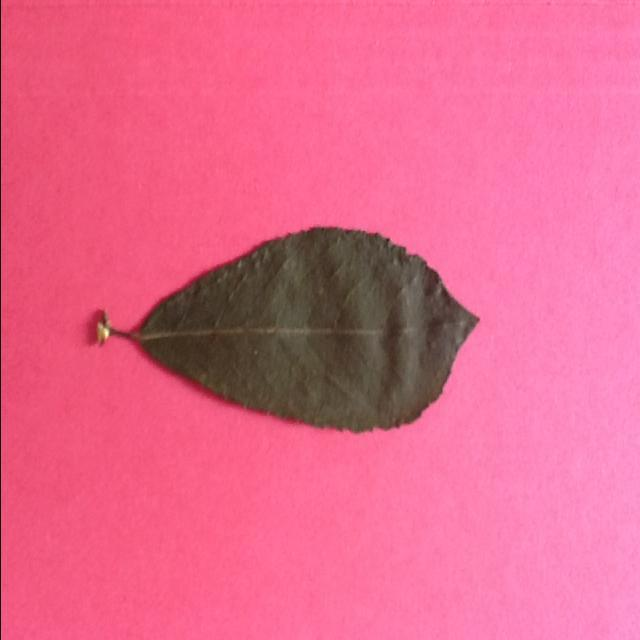foliage: (95, 224, 481, 430)
